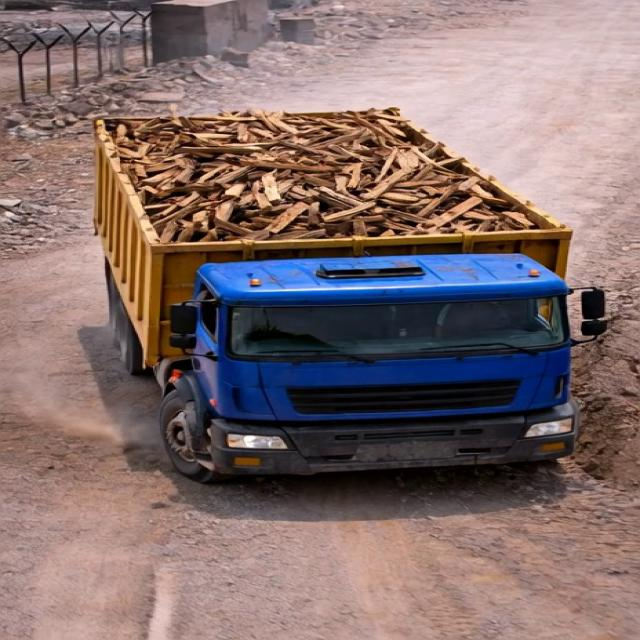Box: (85, 110, 593, 250)
Truck: (58, 90, 612, 493)
